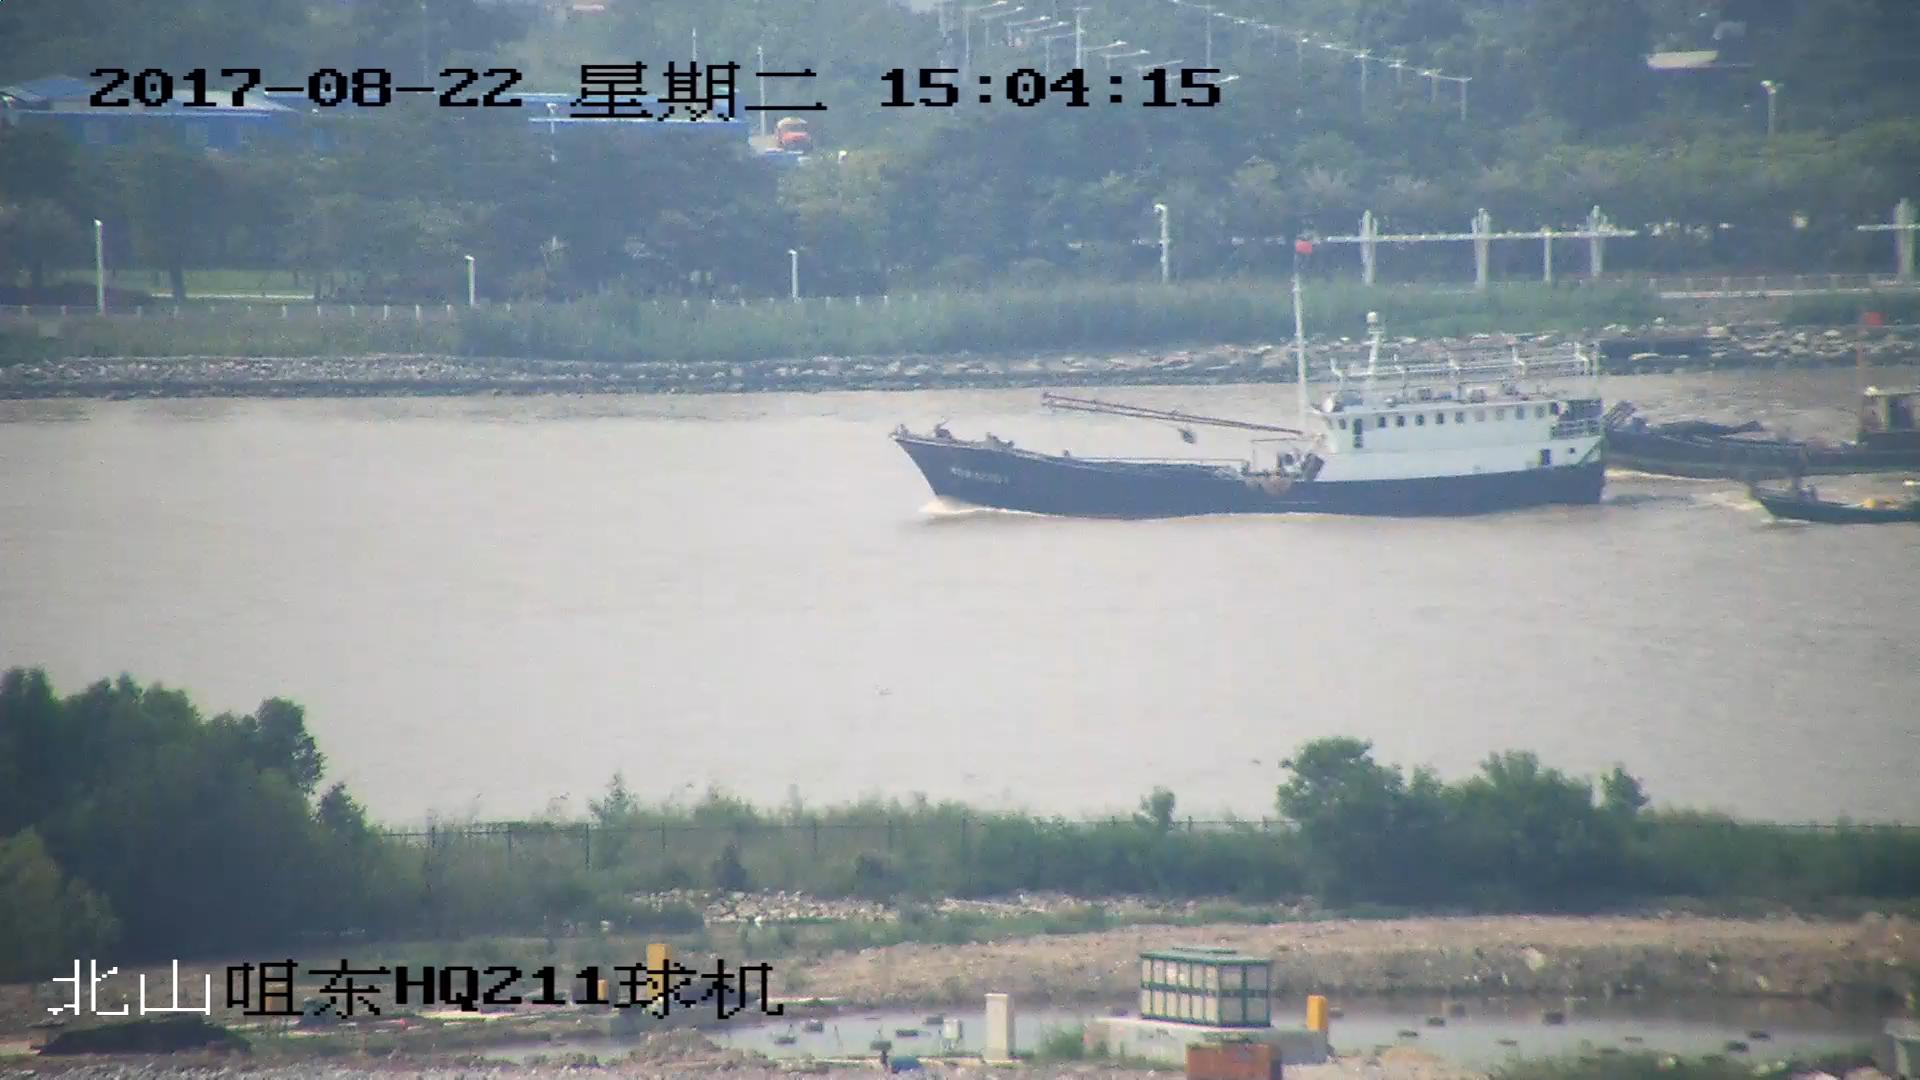fishing boat: (895, 242, 1608, 521), (1587, 308, 1920, 474), (1746, 467, 1920, 522)
